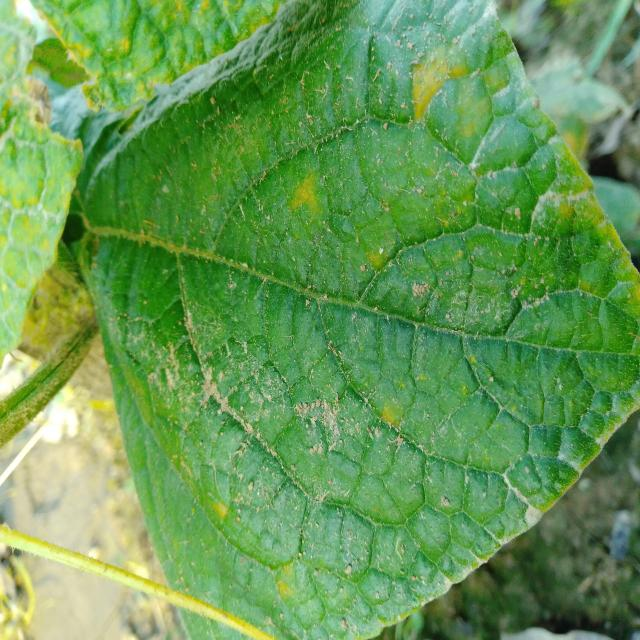cucumber_downy: (124, 12, 629, 629), (27, 2, 314, 119), (0, 0, 83, 372)
